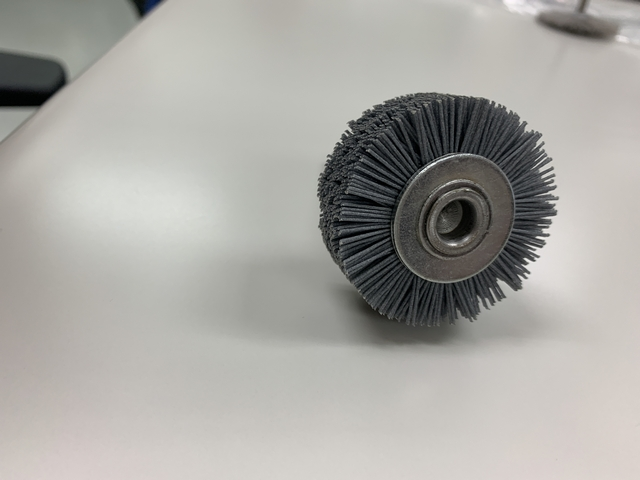Wheel Brush: (310, 87, 558, 320), (327, 86, 542, 335)
